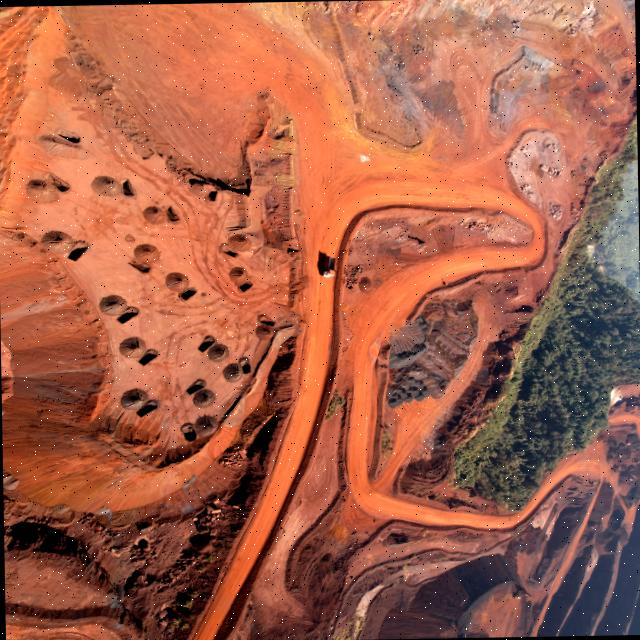Dumper truck: (318, 255, 336, 277), (514, 584, 528, 598)
